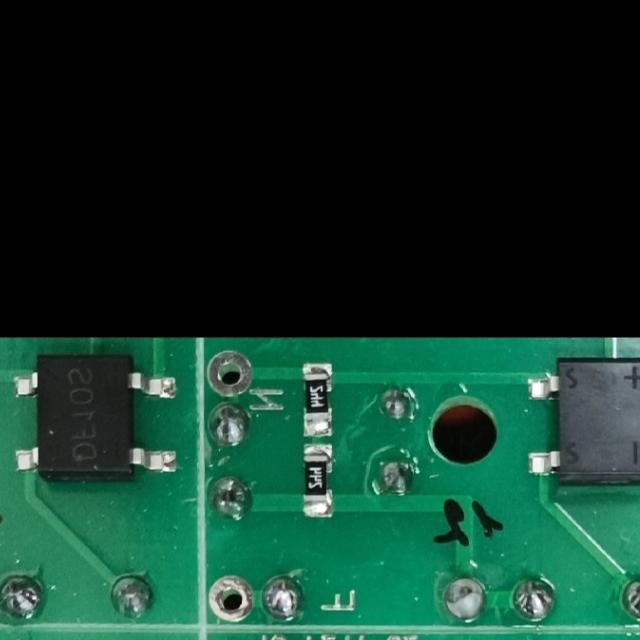chip-resistor: (298, 360, 333, 439), (299, 443, 333, 519)
ic: (9, 350, 180, 486), (522, 354, 640, 487)
